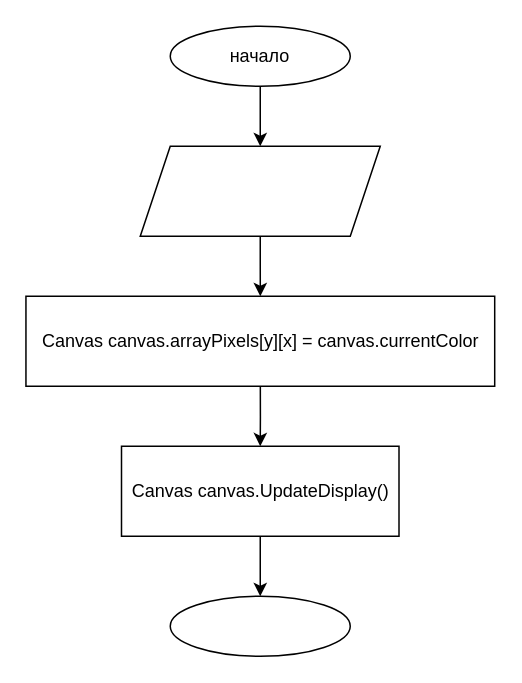
Image size: 522x683. Some labels were removed from this diagram. Each missing label, with the box of its shape:
x = номер столбца, y = номер строки: (139, 145, 380, 236)
конец: (169, 595, 350, 656)
